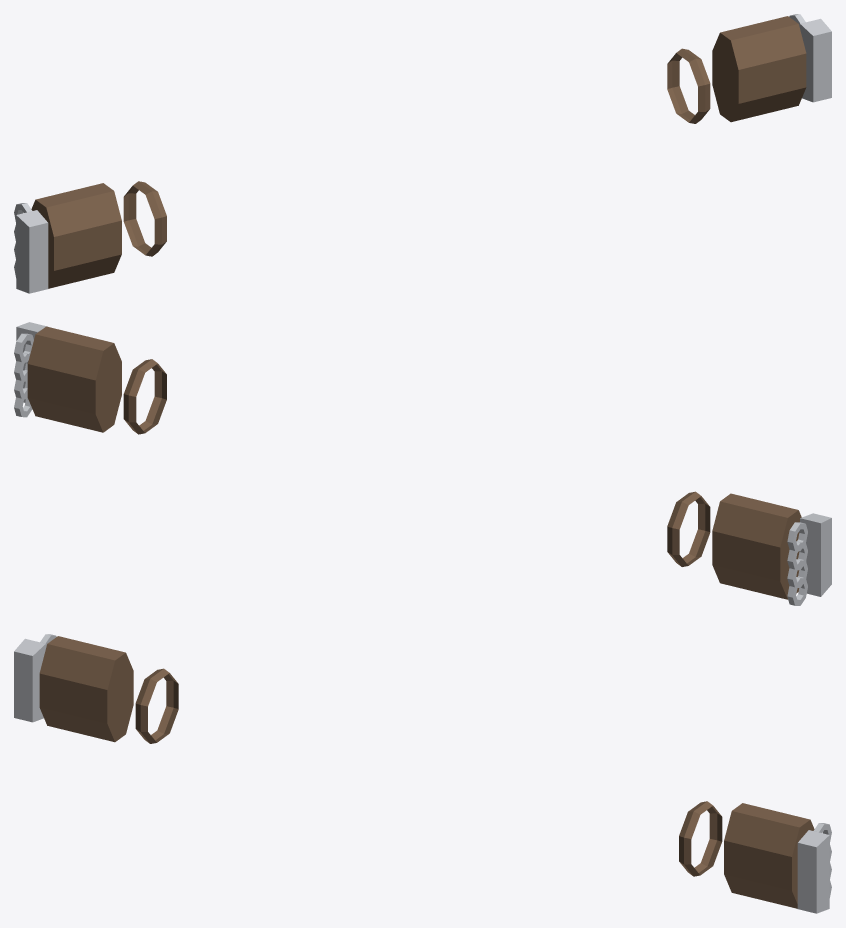
File: ironknuckles.glb
3 views of the same model, one above another, from view 1: azimuth 30°, elevation 25°; view 2: azimuth 150°, elevation 25°; view 3: azimuth 330°, elevation 25° (orthographic).
Parts seen in each view (by area): view 1: Fist1L, Fist1R, Fist2R, Fist2L, LowerArmR, LowerArmL; view 2: Fist1L, Fist1R, Fist2R, LowerArmL, LowerArmR, Fist2L; view 3: Fist1R, Fist1L, Fist2L, Fist2R, LowerArmL, LowerArmR.
Boxes of the visible parts, bbox=[...] form: Fist1L: bbox=[712, 16, 806, 122]; Fist1R: bbox=[31, 183, 121, 288]; Fist2R: bbox=[14, 203, 48, 293]; Fist2L: bbox=[789, 14, 831, 102]; LowerArmR: bbox=[123, 181, 166, 256]; LowerArmL: bbox=[667, 48, 710, 123]; Fist1L: bbox=[27, 326, 121, 432]; Fist1R: bbox=[712, 493, 801, 599]; Fist2R: bbox=[787, 513, 831, 605]; LowerArmL: bbox=[123, 359, 166, 434]; LowerArmR: bbox=[667, 491, 710, 566]; Fist2L: bbox=[14, 322, 47, 417]; Fist1R: bbox=[39, 636, 133, 742]; Fist1L: bbox=[724, 803, 814, 908]; Fist2L: bbox=[797, 823, 831, 913]; Fist2R: bbox=[14, 634, 56, 722]; LowerArmL: bbox=[679, 801, 722, 876]; LowerArmR: bbox=[135, 668, 178, 743].
Bounding box in the file's own units: 3.08 × 0.3083 × 0.2203.
